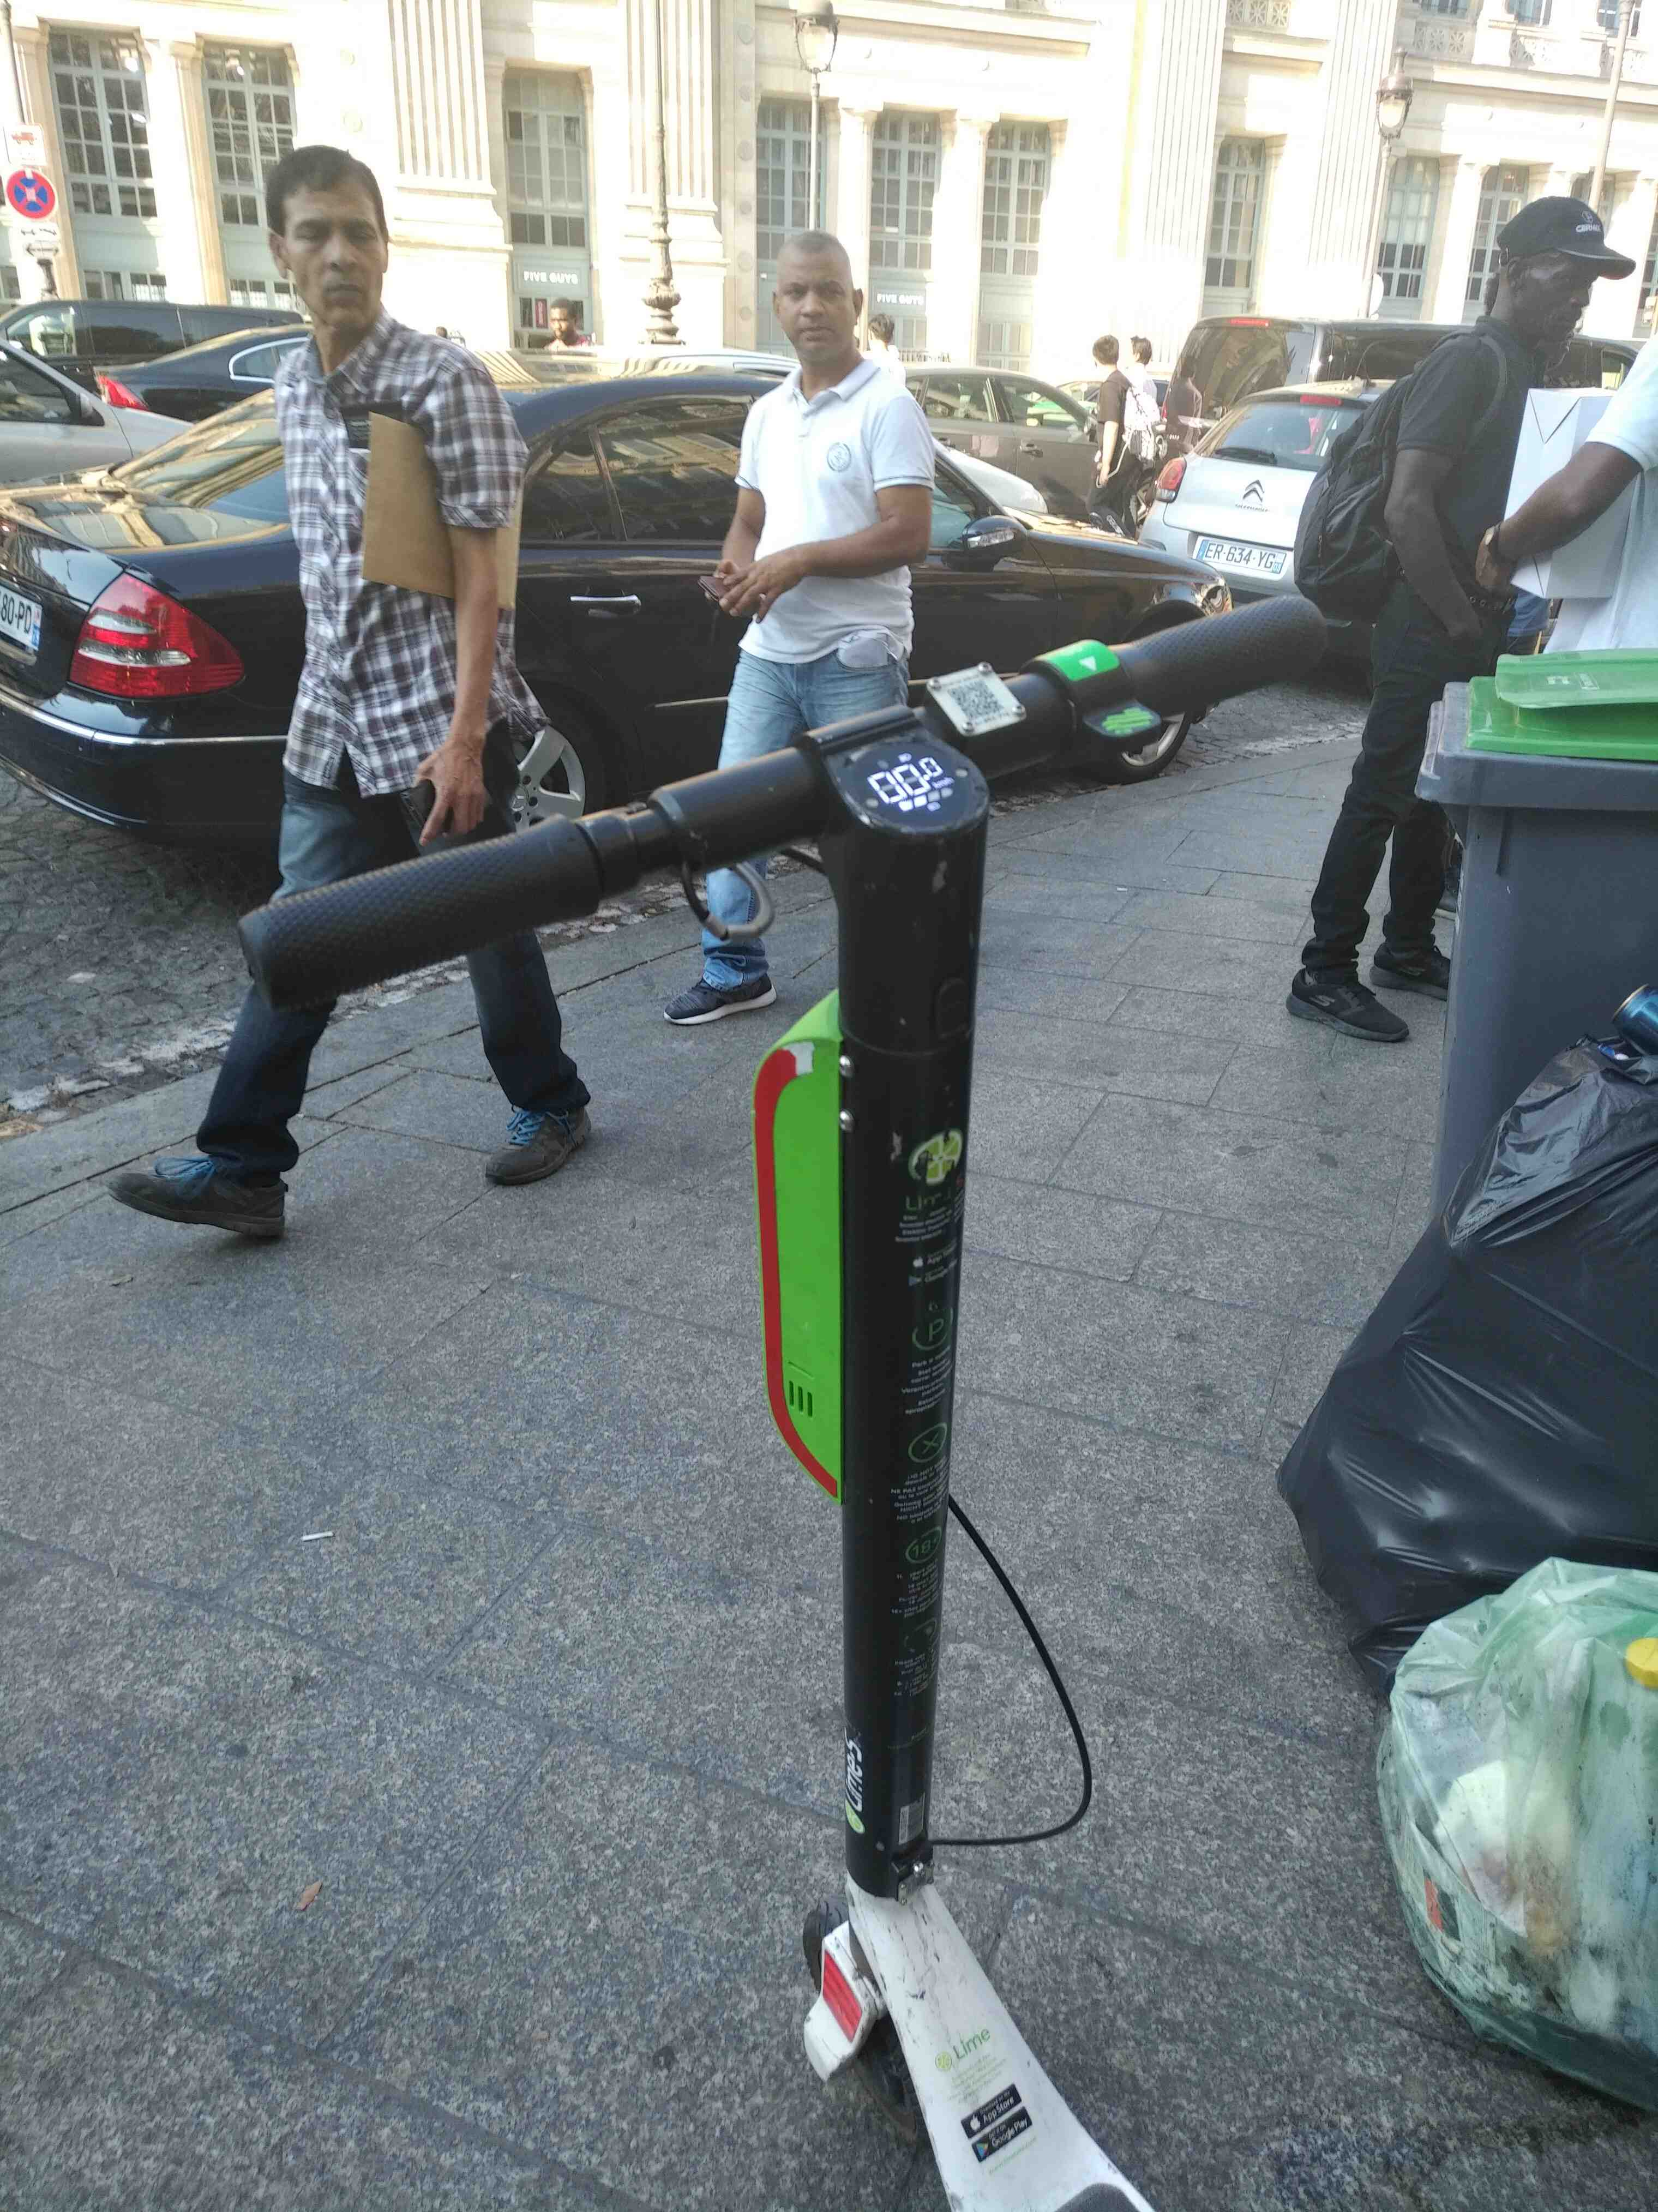scooter: (188, 613, 1385, 2207)
